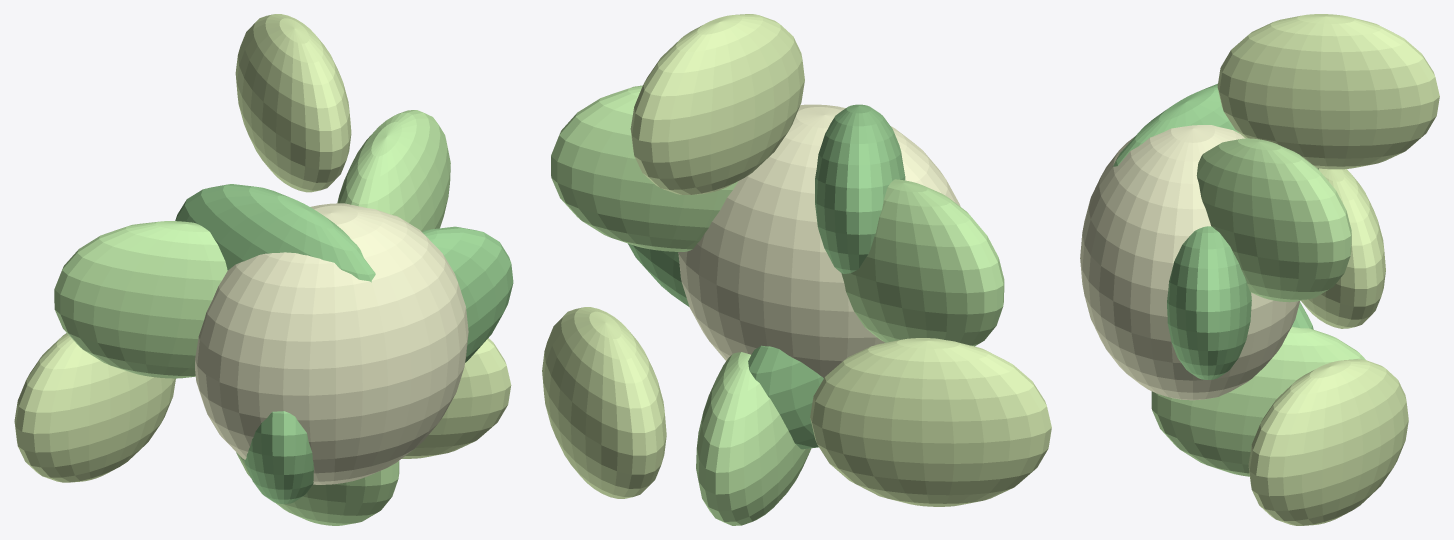
The model's file is crop_lettuce_ready_no_outline.glb.
3 views of the same model, side by side, from view 1: azimuth 30°, elevation 25°; view 2: azimuth 150°, elevation 25°; view 3: azimuth 270°, elevation 25° (orthographic). The views are drawn at different scales.
Parts seen in each view (by area): view 1: crop_lettuce_ready_nucleo_no_outline, crop_lettuce_ready_folha_04_no_outline, crop_lettuce_ready_folha_05_no_outline, crop_lettuce_ready_folha_02_no_outline, crop_lettuce_ready_folha_03_no_outline, crop_lettuce_ready_folha_01_no_outline, crop_lettuce_ready_folha_00_no_outline, crop_lettuce_ready_folha_08_no_outline, crop_lettuce_ready_folha_06_no_outline, crop_lettuce_ready_folha_07_no_outline; view 2: crop_lettuce_ready_folha_05_no_outline, crop_lettuce_ready_nucleo_no_outline, crop_lettuce_ready_folha_02_no_outline, crop_lettuce_ready_folha_04_no_outline, crop_lettuce_ready_folha_08_no_outline, crop_lettuce_ready_folha_01_no_outline, crop_lettuce_ready_folha_07_no_outline, crop_lettuce_ready_folha_03_no_outline, crop_lettuce_ready_folha_06_no_outline, crop_lettuce_ready_folha_00_no_outline; view 3: crop_lettuce_ready_nucleo_no_outline, crop_lettuce_ready_folha_02_no_outline, crop_lettuce_ready_folha_08_no_outline, crop_lettuce_ready_folha_01_no_outline, crop_lettuce_ready_folha_07_no_outline, crop_lettuce_ready_folha_00_no_outline, crop_lettuce_ready_folha_05_no_outline, crop_lettuce_ready_folha_03_no_outline.
Part boxes in pixels (left/top/right/bottom): crop_lettuce_ready_nucleo_no_outline: left=195, top=203, right=468, bottom=484; crop_lettuce_ready_folha_04_no_outline: left=54, top=221, right=227, bottom=378; crop_lettuce_ready_folha_05_no_outline: left=14, top=333, right=175, bottom=482; crop_lettuce_ready_folha_02_no_outline: left=235, top=14, right=351, bottom=192; crop_lettuce_ready_folha_03_no_outline: left=175, top=184, right=375, bottom=282; crop_lettuce_ready_folha_01_no_outline: left=337, top=110, right=450, bottom=231; crop_lettuce_ready_folha_00_no_outline: left=422, top=226, right=513, bottom=362; crop_lettuce_ready_folha_08_no_outline: left=402, top=338, right=511, bottom=458; crop_lettuce_ready_folha_06_no_outline: left=244, top=411, right=313, bottom=504; crop_lettuce_ready_folha_07_no_outline: left=236, top=452, right=399, bottom=525; crop_lettuce_ready_folha_05_no_outline: left=810, top=338, right=1051, bottom=506; crop_lettuce_ready_nucleo_no_outline: left=678, top=104, right=960, bottom=377; crop_lettuce_ready_folha_02_no_outline: left=630, top=14, right=804, bottom=194; crop_lettuce_ready_folha_04_no_outline: left=841, top=179, right=1004, bottom=346; crop_lettuce_ready_folha_08_no_outline: left=542, top=307, right=666, bottom=498; crop_lettuce_ready_folha_01_no_outline: left=551, top=85, right=738, bottom=251; crop_lettuce_ready_folha_07_no_outline: left=696, top=352, right=811, bottom=525; crop_lettuce_ready_folha_03_no_outline: left=815, top=104, right=905, bottom=273; crop_lettuce_ready_folha_06_no_outline: left=748, top=345, right=823, bottom=449; crop_lettuce_ready_folha_00_no_outline: left=628, top=243, right=689, bottom=306; crop_lettuce_ready_nucleo_no_outline: left=1080, top=125, right=1299, bottom=400; crop_lettuce_ready_folha_02_no_outline: left=1217, top=14, right=1439, bottom=169; crop_lettuce_ready_folha_08_no_outline: left=1248, top=359, right=1408, bottom=525; crop_lettuce_ready_folha_01_no_outline: left=1196, top=138, right=1351, bottom=302; crop_lettuce_ready_folha_07_no_outline: left=1151, top=327, right=1365, bottom=476; crop_lettuce_ready_folha_00_no_outline: left=1167, top=226, right=1251, bottom=379; crop_lettuce_ready_folha_05_no_outline: left=1301, top=168, right=1385, bottom=328; crop_lettuce_ready_folha_03_no_outline: left=1113, top=83, right=1239, bottom=166.
Size of the model in its own units: 1.45 by 1.36 by 0.9553.
